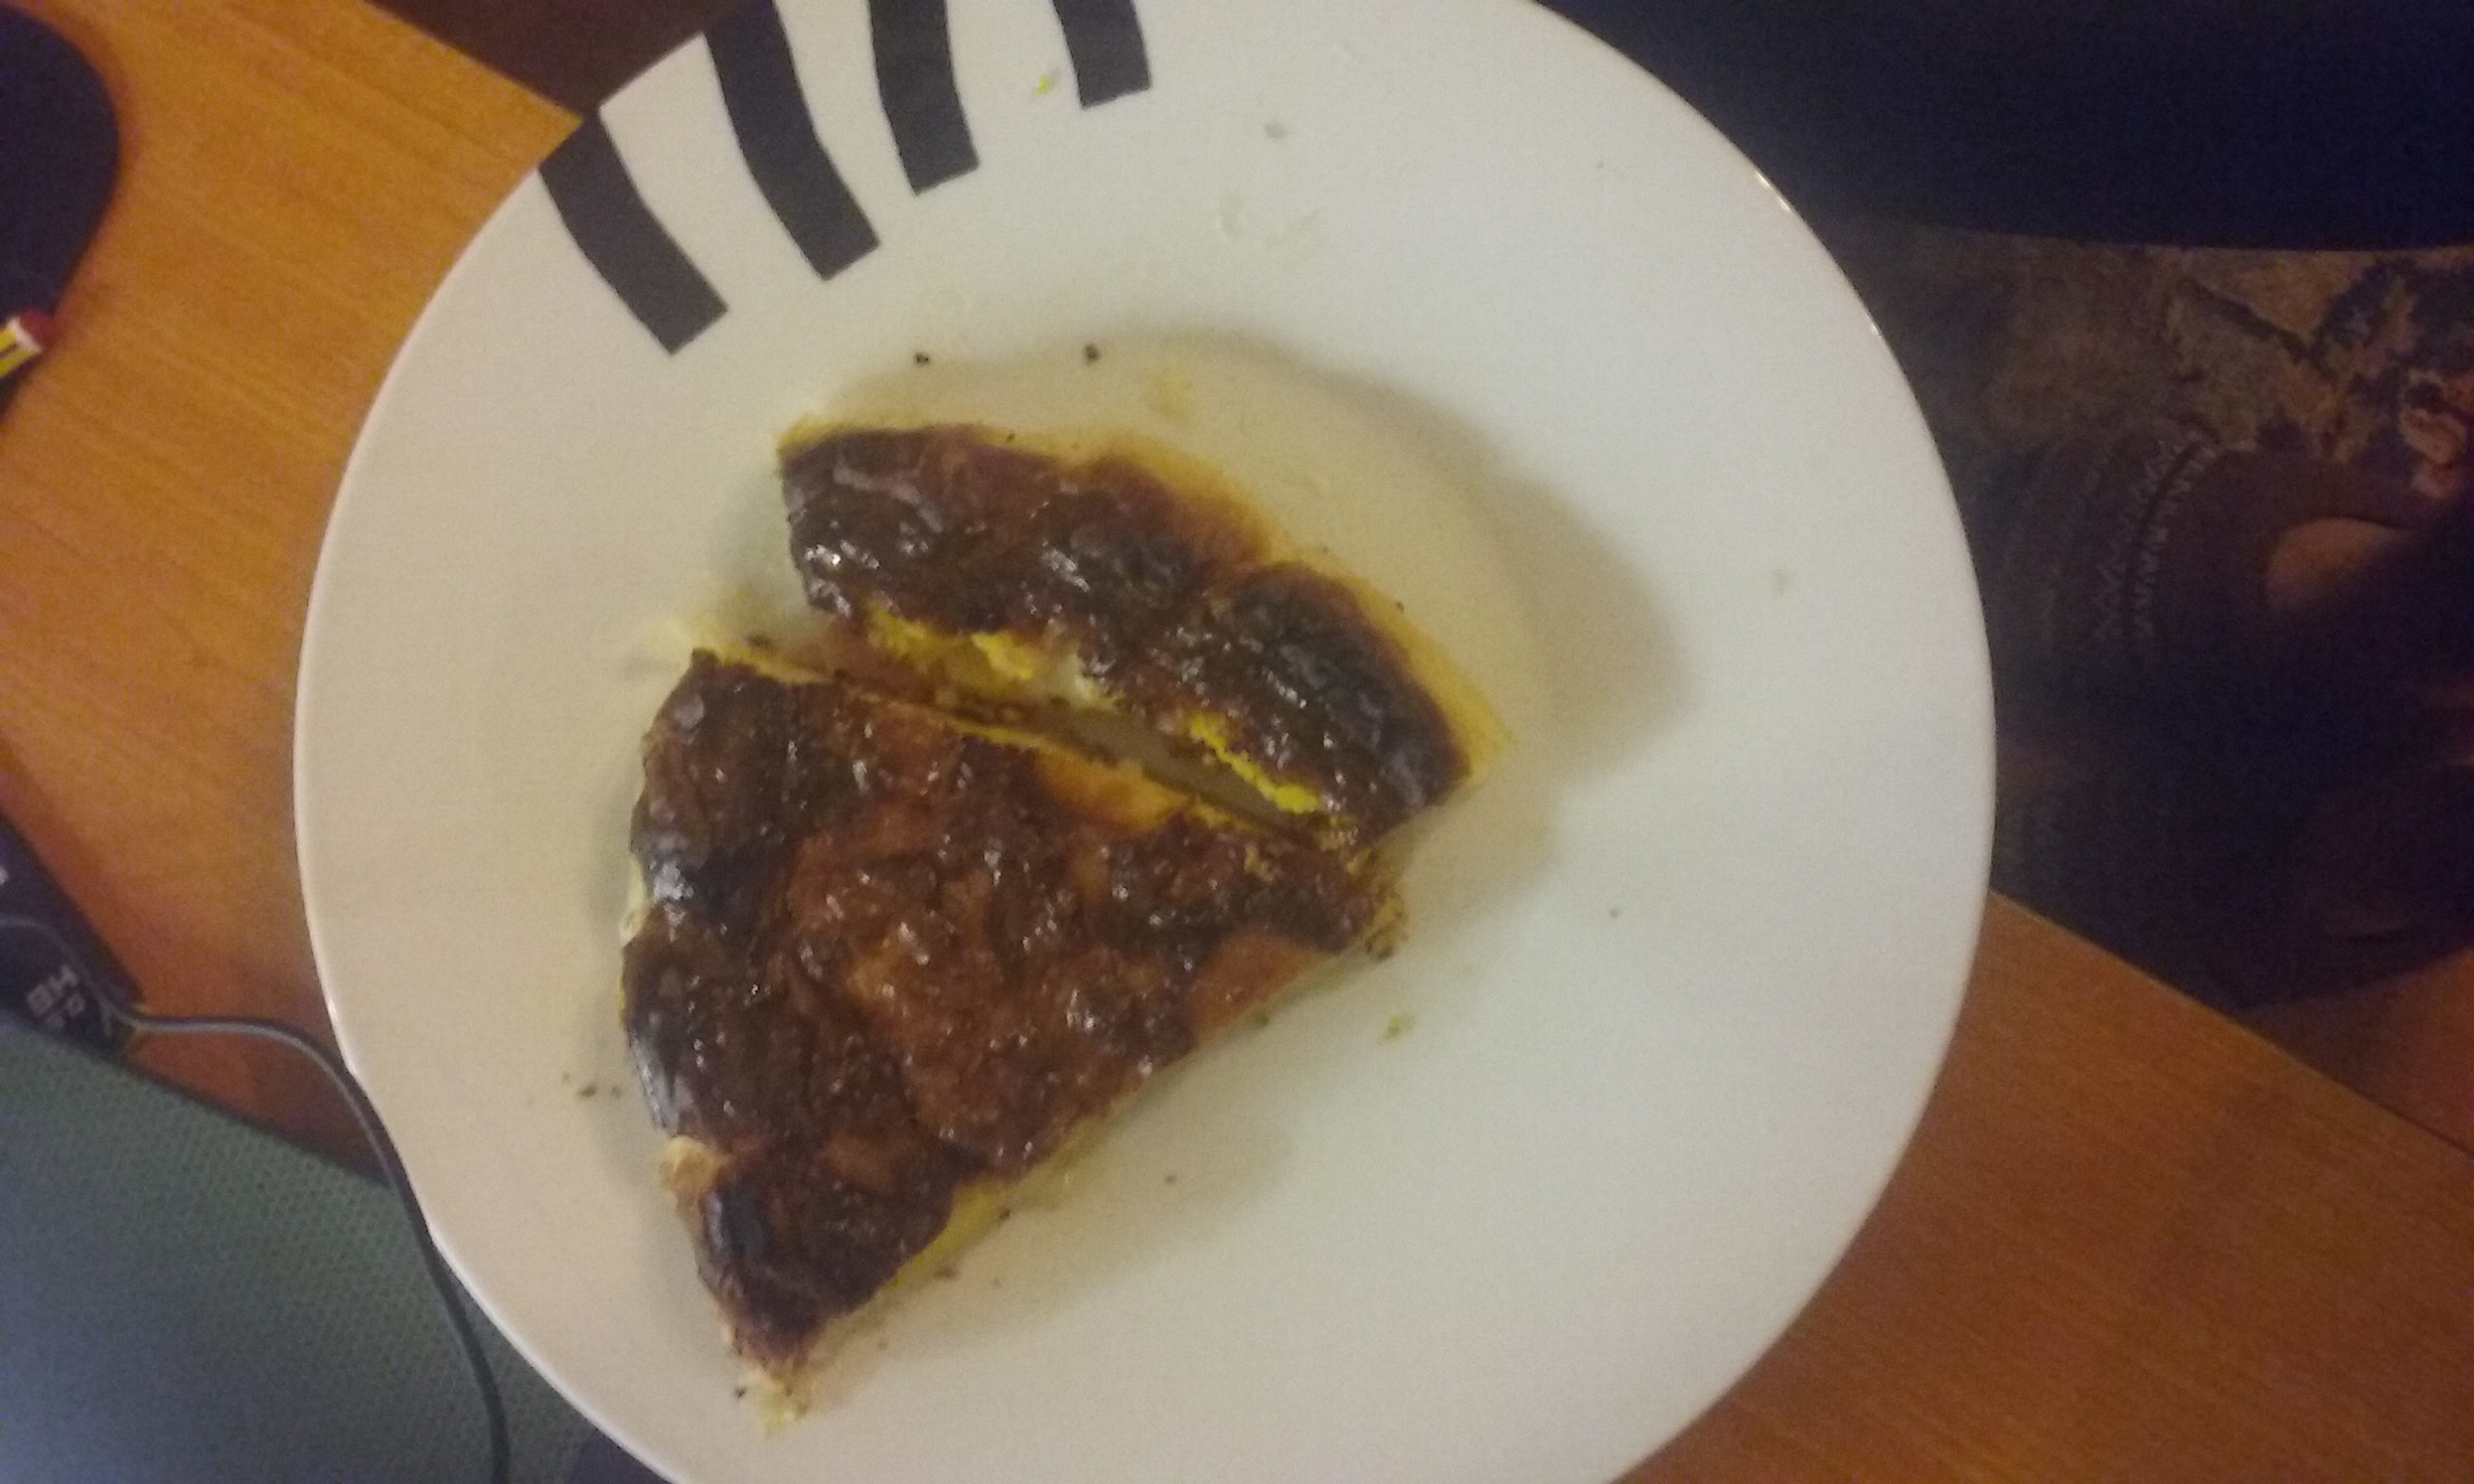61-80: (332, 16, 1986, 1477)
